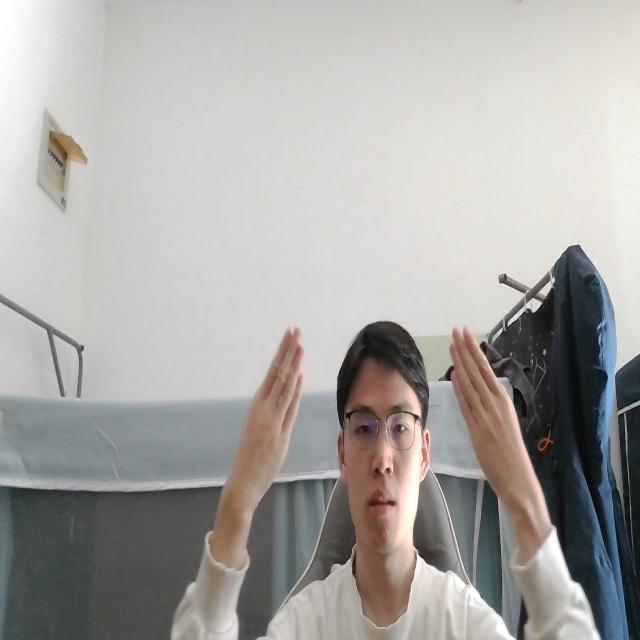four: (445, 325, 535, 508), (226, 320, 310, 512)
